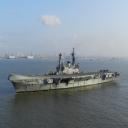Portanaves: (7, 47, 123, 97)
